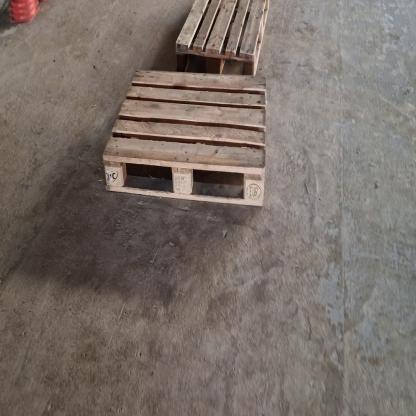BoxFace: (101, 66, 268, 207), (173, 0, 271, 76)
